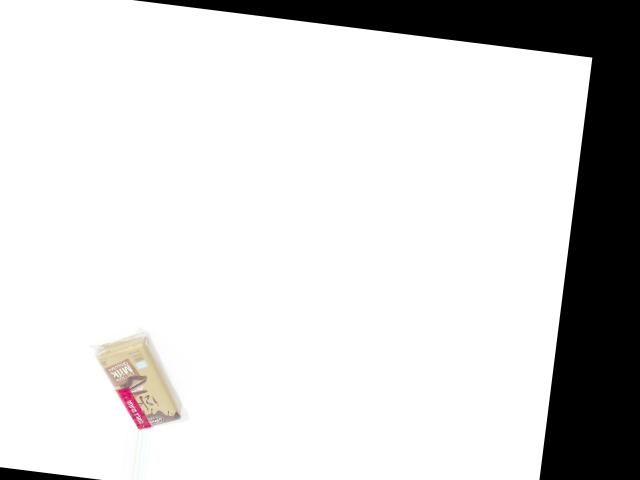chocolate: (76, 325, 192, 433)
